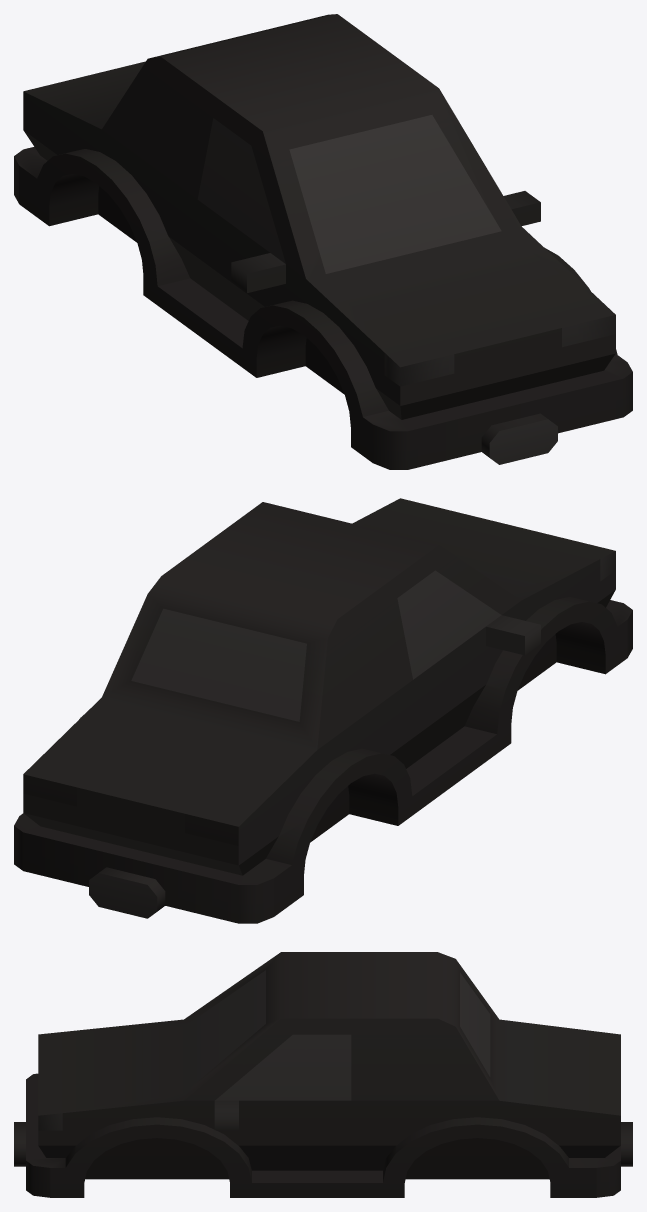
File: sedan_burnt.glb
3 renders of one model, top to bottom at view 1: azimuth 30°, elevation 25°; view 2: azimuth 150°, elevation 25°; view 3: azimuth 270°, elevation 25°, orthographic. The views are drawn at different scales.
Parts seen in each view (by area): view 1: body; view 2: body; view 3: body.
Boxes of the visible parts, x1,y1,x2,y2 form: body: (14, 14, 632, 469); body: (14, 498, 632, 923); body: (14, 952, 632, 1197).
Size of the model in its own units: 1.9 by 1.38 by 4.49.
Materials: 1 (1 with a texture image).
